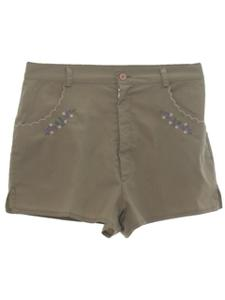C_shorts: (1, 56, 224, 247)
